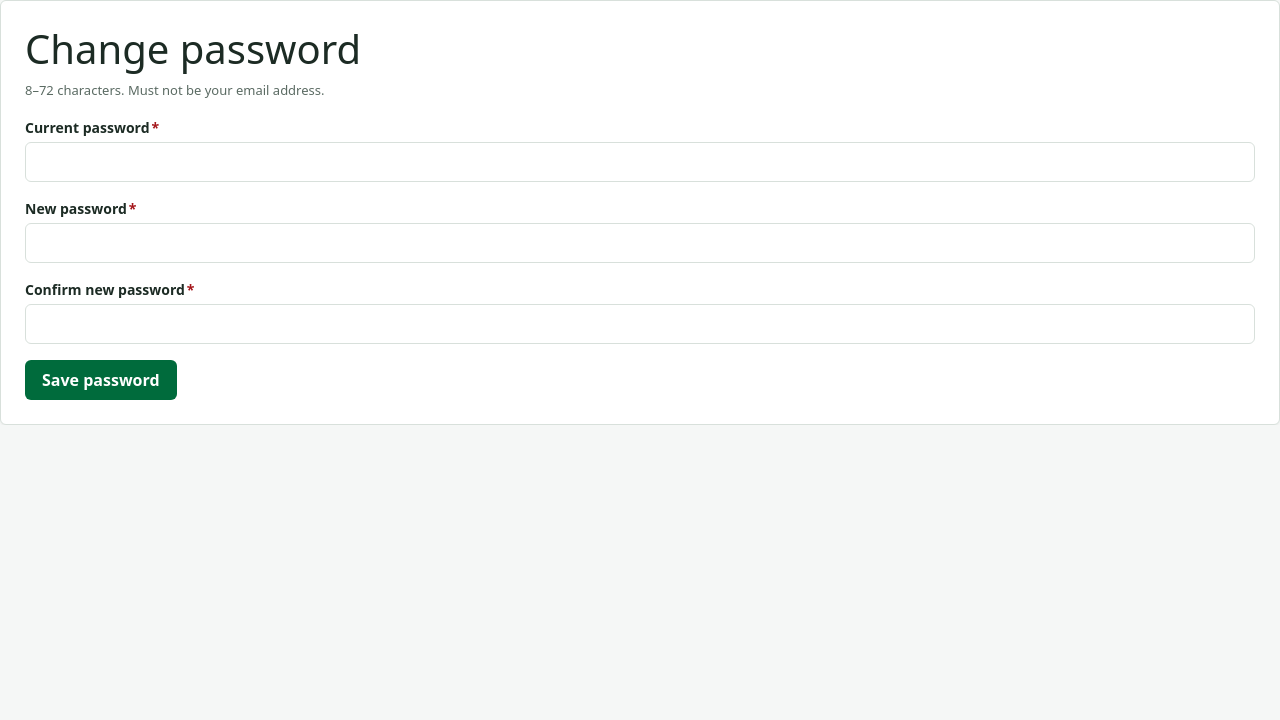
Test: UI-05 the rules, field by field › clears only the current password when it was wrong
Type "Wrong-horse-1" into the password field labelled "Current password*" at {"x": 640, "y": 162}, box [25,142,1255,182]
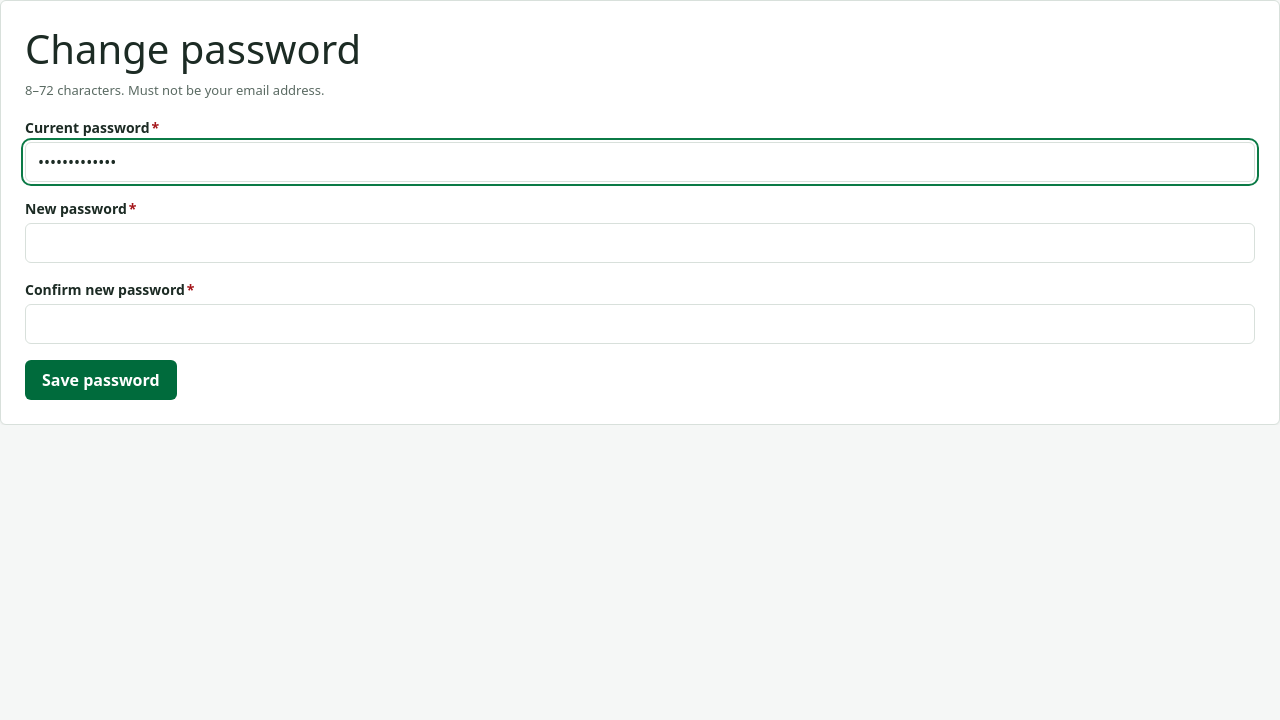
Type "Brand-new-horse-9" into the password field labelled "New password*" at {"x": 640, "y": 242}, box [25,222,1255,262]
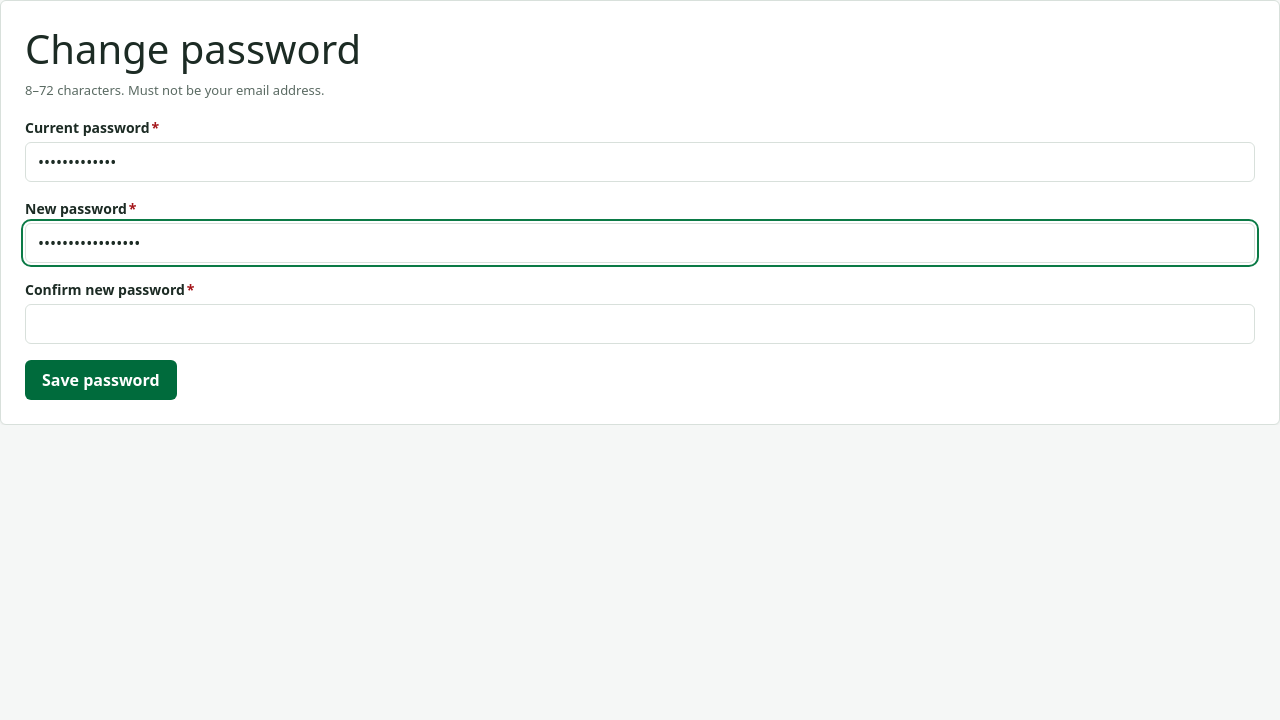
Type "Brand-new-horse-9" into the password field labelled "Confirm new password*" at {"x": 640, "y": 324}, box [25,304,1255,344]
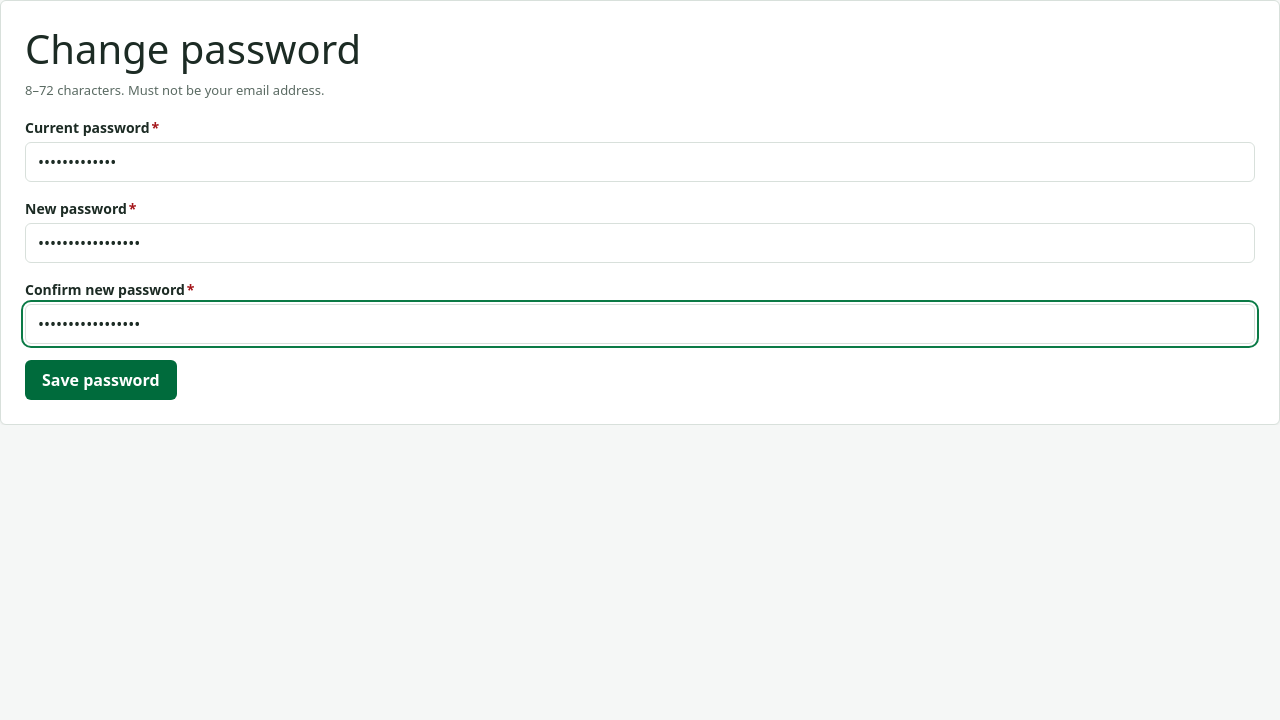
Click the button "Save password" at {"x": 101, "y": 380}, box [25,360,177,400]
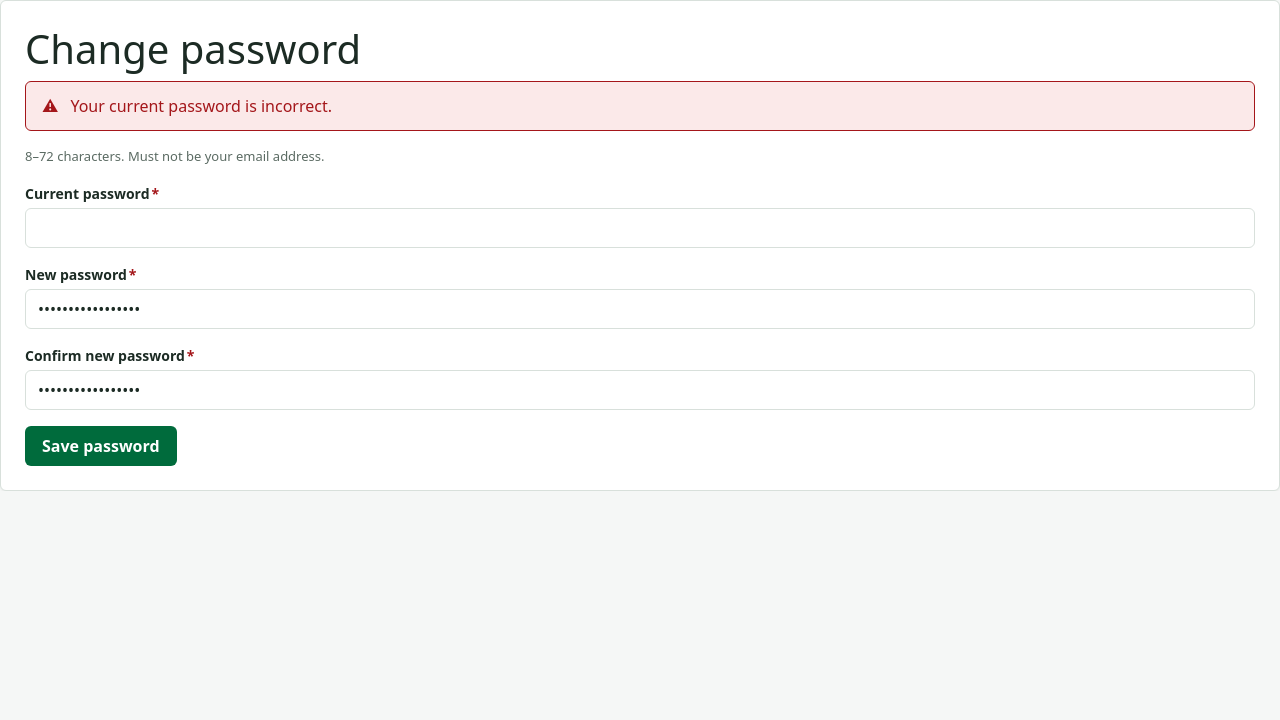
Check: the message shows "Your current password is incorrect.", box [70,95,332,117]
Check: the password field labelled "Current password*" is empty, box [25,208,1255,248]
